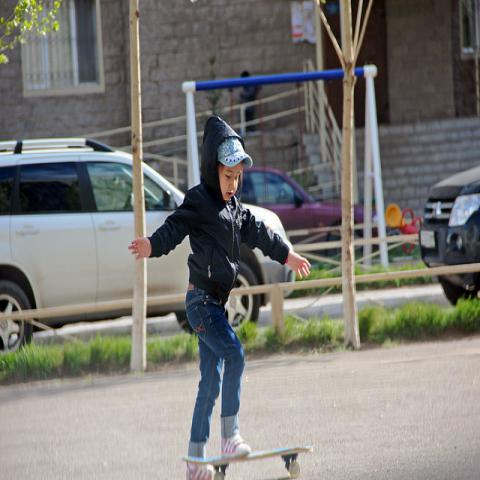car: (1, 140, 296, 355), (420, 165, 479, 304), (237, 167, 363, 230)
